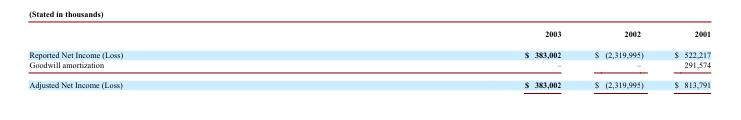table: (28, 29, 710, 89)
table column: (28, 29, 323, 89), (323, 29, 577, 89), (577, 29, 658, 89), (658, 29, 710, 89)
table column header: (28, 29, 710, 44)
table row: (28, 29, 710, 44), (28, 44, 710, 59), (28, 59, 710, 74), (28, 74, 710, 89)
